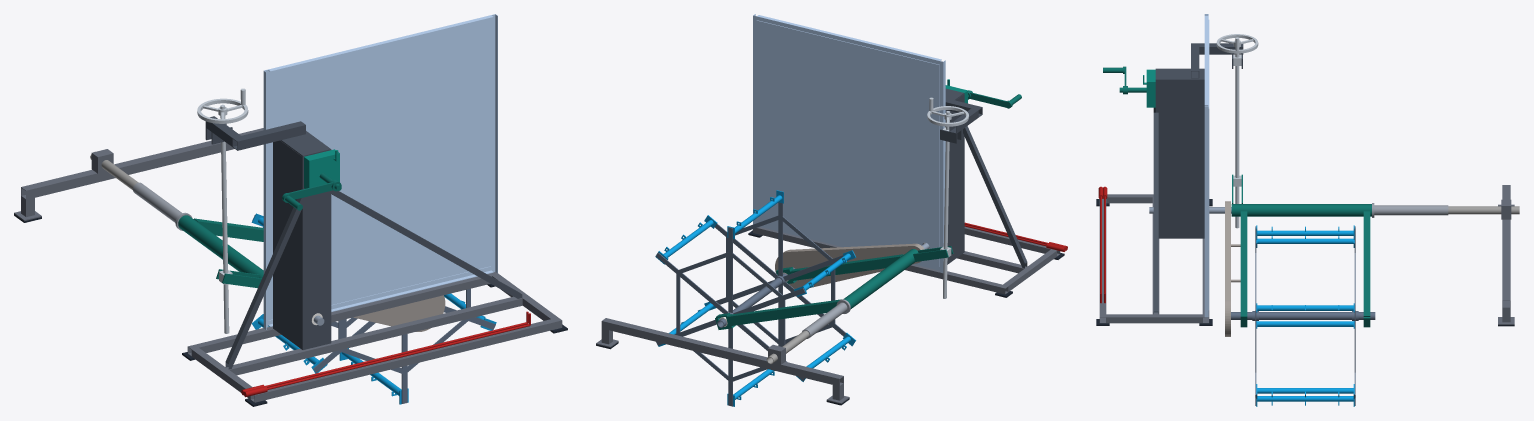
3 views of the same model, side by side, from view 1: azimuth 30°, elevation 25°; view 2: azimuth 150°, elevation 25°; view 3: azimuth 270°, elevation 25° (orthographic). The views are drawn at different scales.
Visible parts, largest first — view 1: Splash shield, Bearing tower with braces, Near stand base frame, Far stand with clamp and sleeve, Arm frame (torque tube, two arms, keeper), Lift screw, trunnions and handwheel, Reel (axle and two spiders), Loading hooks (2), Lift screw bracket, Chain 2 guard, Carrier bars (6), Ratchet and pawl (+2 smaller); view 2: Splash shield, Reel (axle and two spiders), Arm frame (torque tube, two arms, keeper), Far stand with clamp and sleeve, Bearing tower with braces, Near stand base frame, Carrier bars (6), Chain 2 guard, Lift screw, trunnions and handwheel, Lift screw bracket, Pivot tube with plug and collars, Loading hooks (2); view 3: Bearing tower with braces, Carrier bars (6), Arm frame (torque tube, two arms, keeper), Near stand base frame, Splash shield, Reel (axle and two spiders), Lift screw, trunnions and handwheel, Far stand with clamp and sleeve, Chain 2 guard, Pivot tube with plug and collars, Lift screw bracket, Extension tube (+2 smaller).
Part boxes in pixels (x1,y1,x2,y2): Splash shield: (263, 14, 497, 329); Bearing tower with braces: (225, 131, 522, 369); Near stand base frame: (187, 272, 562, 402); Far stand with clamp and sleeve: (14, 128, 263, 221); Arm frame (torque tube, two arms, keeper): (178, 215, 263, 288); Lift screw, trunnions and handwheel: (197, 88, 248, 333); Reel (axle and two spiders): (252, 215, 495, 403); Loading hooks (2): (241, 311, 530, 397); Lift screw bracket: (205, 116, 305, 150); Chain 2 guard: (353, 295, 445, 331); Carrier bars (6): (251, 213, 496, 404); Ratchet and pawl: (304, 149, 339, 188); Splash shield: (753, 14, 945, 272); Reel (axle and two spiders): (656, 190, 855, 406); Arm frame (torque tube, two arms, keeper): (715, 246, 953, 329); Far stand with clamp and sleeve: (596, 318, 849, 403); Bearing tower with braces: (922, 88, 1027, 268); Near stand base frame: (753, 226, 1060, 294); Carrier bars (6): (655, 190, 855, 406); Chain 2 guard: (775, 243, 924, 288); Lift screw, trunnions and handwheel: (927, 97, 968, 298); Lift screw bracket: (940, 98, 982, 143); Pivot tube with plug and collars: (802, 299, 850, 338); Loading hooks (2): (964, 222, 1067, 251); Bearing tower with braces: (1153, 68, 1204, 313); Carrier bars (6): (1256, 225, 1354, 406); Arm frame (torque tube, two arms, keeper): (1231, 174, 1371, 327); Near stand base frame: (1099, 194, 1209, 323); Splash shield: (1204, 14, 1209, 317); Reel (axle and two spiders): (1231, 226, 1375, 405); Lift screw, trunnions and handwheel: (1216, 34, 1258, 228); Far stand with clamp and sleeve: (1498, 185, 1514, 324); Chain 2 guard: (1225, 201, 1240, 336); Pivot tube with plug and collars: (1372, 203, 1448, 217); Lift screw bracket: (1191, 43, 1243, 78); Extension tube: (1448, 206, 1519, 214).
Bounding box in the file's own units: 1.97 × 2.15 × 2.55.
